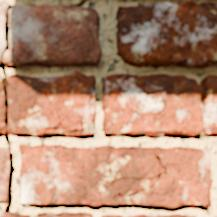brick: (19, 145, 211, 207), (102, 74, 216, 136), (117, 1, 216, 67), (0, 148, 8, 202), (0, 212, 92, 216), (130, 214, 195, 216), (102, 215, 124, 216)
broken_brick: (5, 3, 102, 67), (7, 70, 96, 137), (0, 0, 8, 53), (0, 82, 4, 136)
crack: (0, 2, 15, 214), (44, 90, 69, 135), (56, 0, 90, 8), (25, 2, 37, 6)
